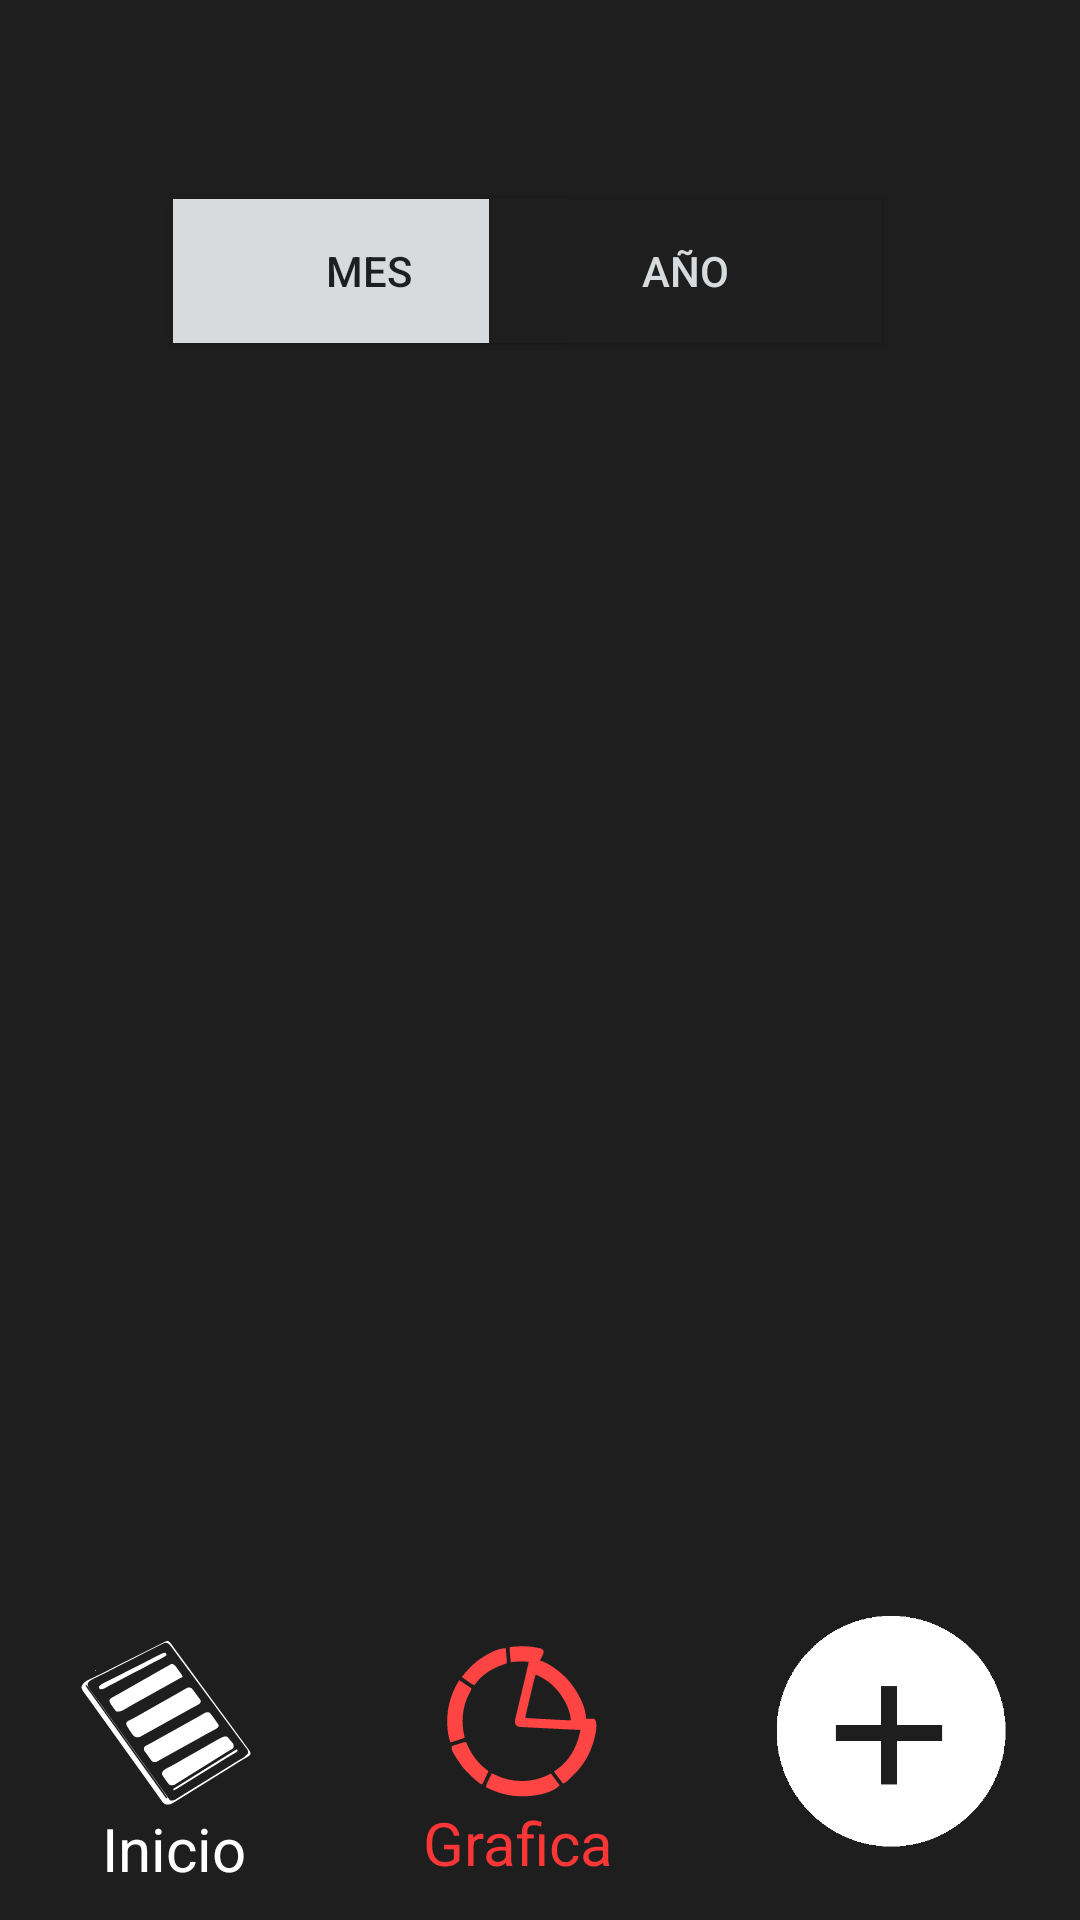

Screen size 1080*1920. Icon name, then its box in pixels as (x1, y1, x2, y2):
add circle: (777, 1616, 1006, 1847)
